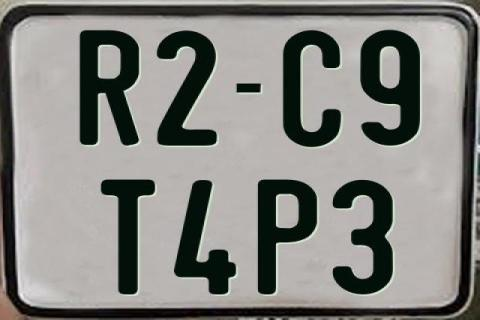0: (156, 29, 220, 150), (357, 29, 421, 149), (172, 177, 234, 293), (329, 179, 390, 295)
C: (281, 29, 345, 145)
P: (258, 179, 321, 295)
R: (78, 29, 143, 149)
T: (100, 177, 155, 292)
